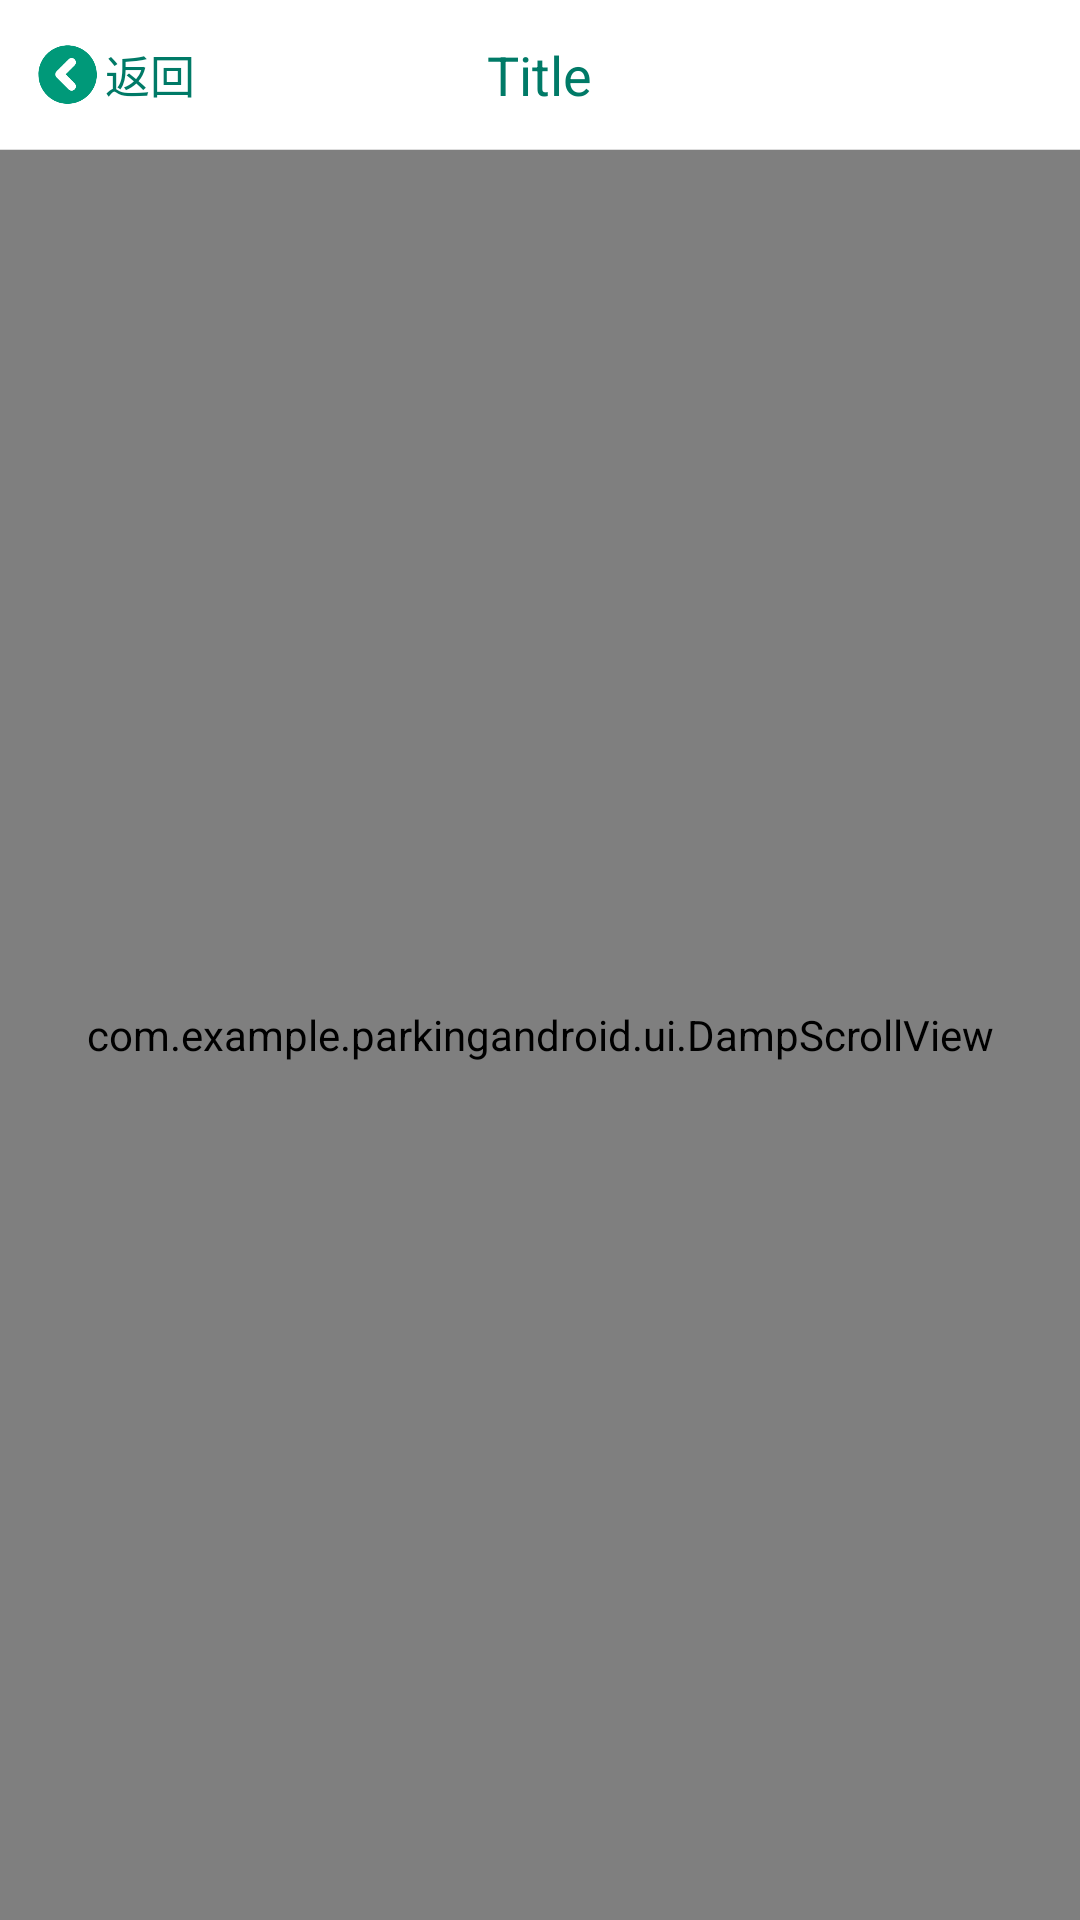

Icon bounding boxes for this 1080x1920 phone screenshot, format bbox=[x1, y1, x2, y2]:
arrow left: bbox=[38, 45, 97, 104]
